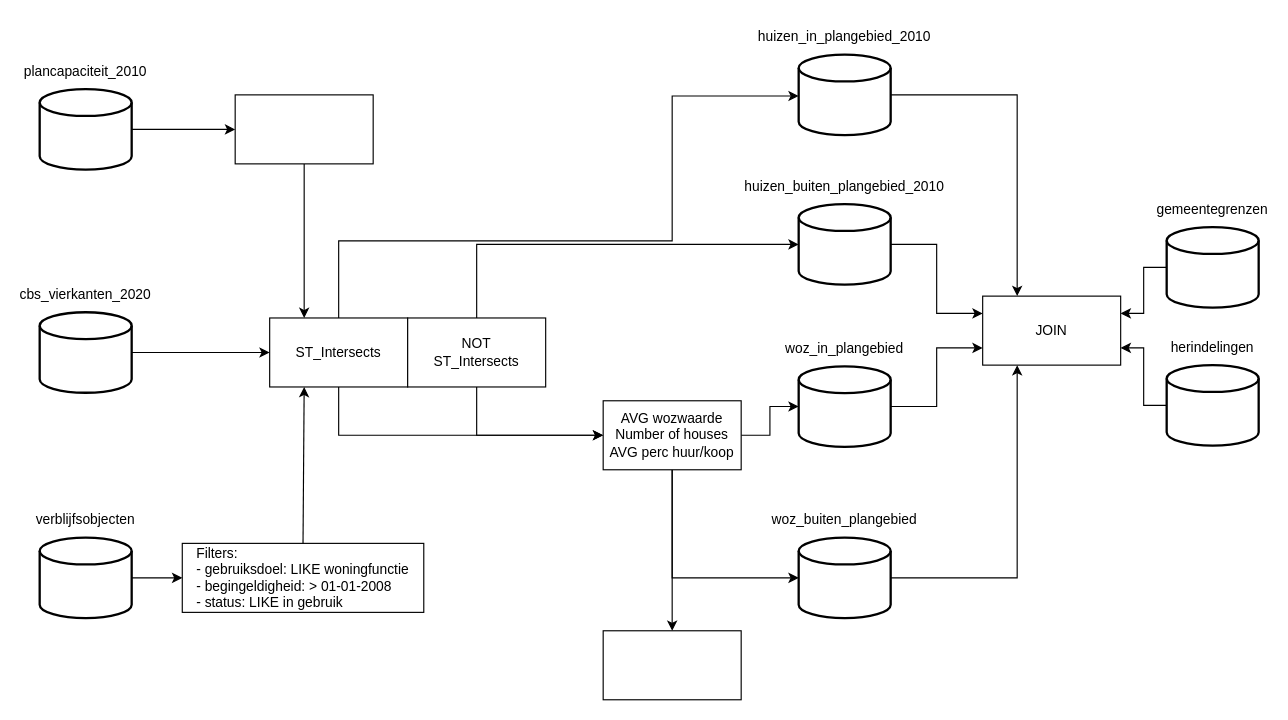
The diagram is 1288 pixels wide and 720 high, and some of its shapes have lost their labels. The box of each missing label's shape, as (x1, y1, x2, y2) in pixels:
Filters: - bestemming: wonen: (234, 94, 373, 164)
NOTE: how to calculate the averages?: (602, 630, 741, 700)
